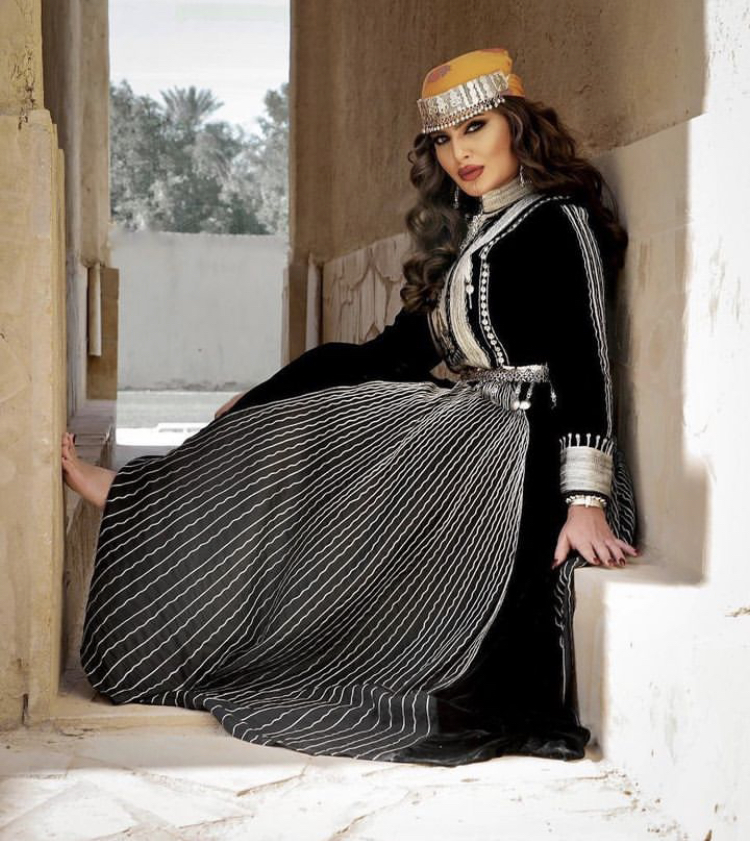Saudi_Founding_Day: (60, 38, 644, 768)
